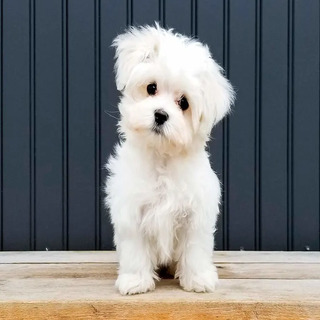perro: (91, 12, 254, 185)
